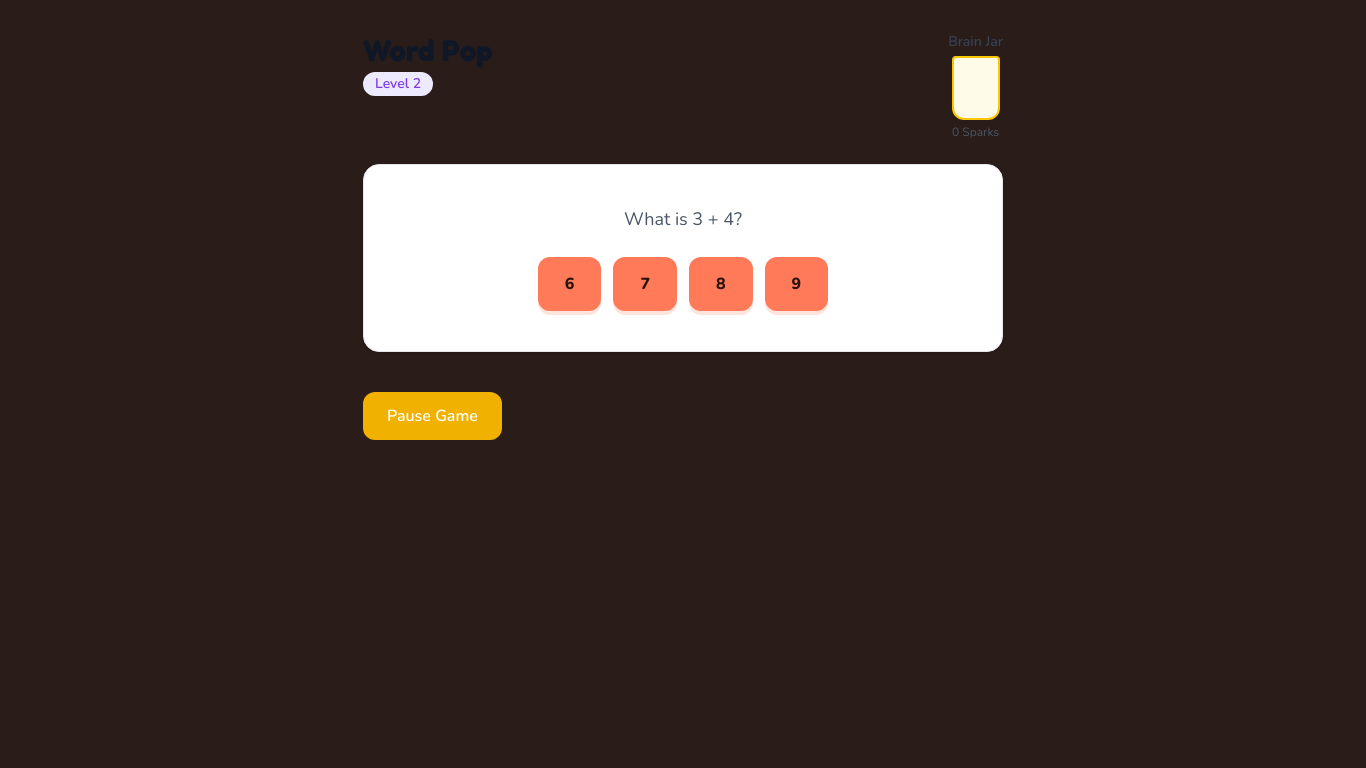
it: GameplayPage (active play screen) › clicking Resume on the PauseOverlay hides the overlay (AC3)
The image size is (1366, 768).
Click the button "Pause Game". click: click(432, 416)
box: [363, 392, 502, 440]
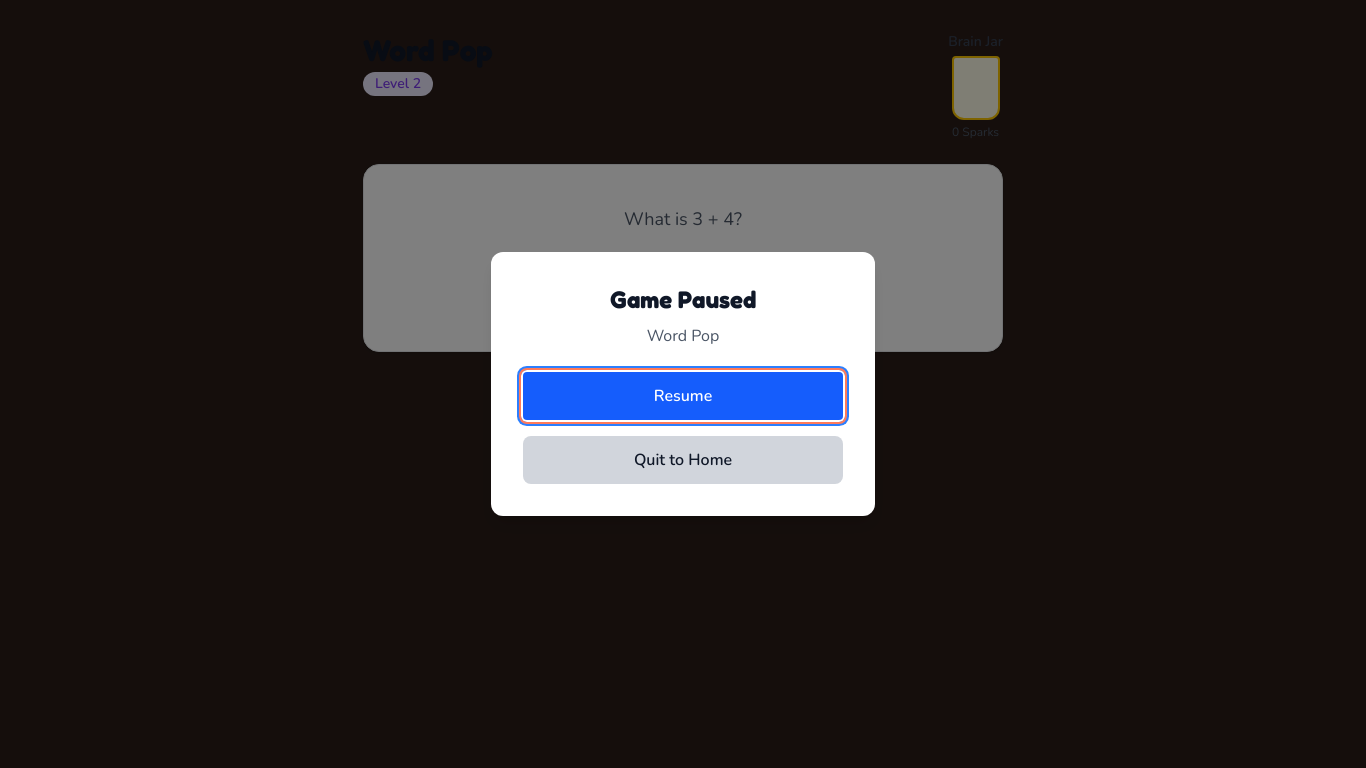
Now the heading "Game Paused" is shown, box [610, 285, 756, 314]
Click the button "Resume". click: click(683, 396)
box: [523, 372, 843, 420]
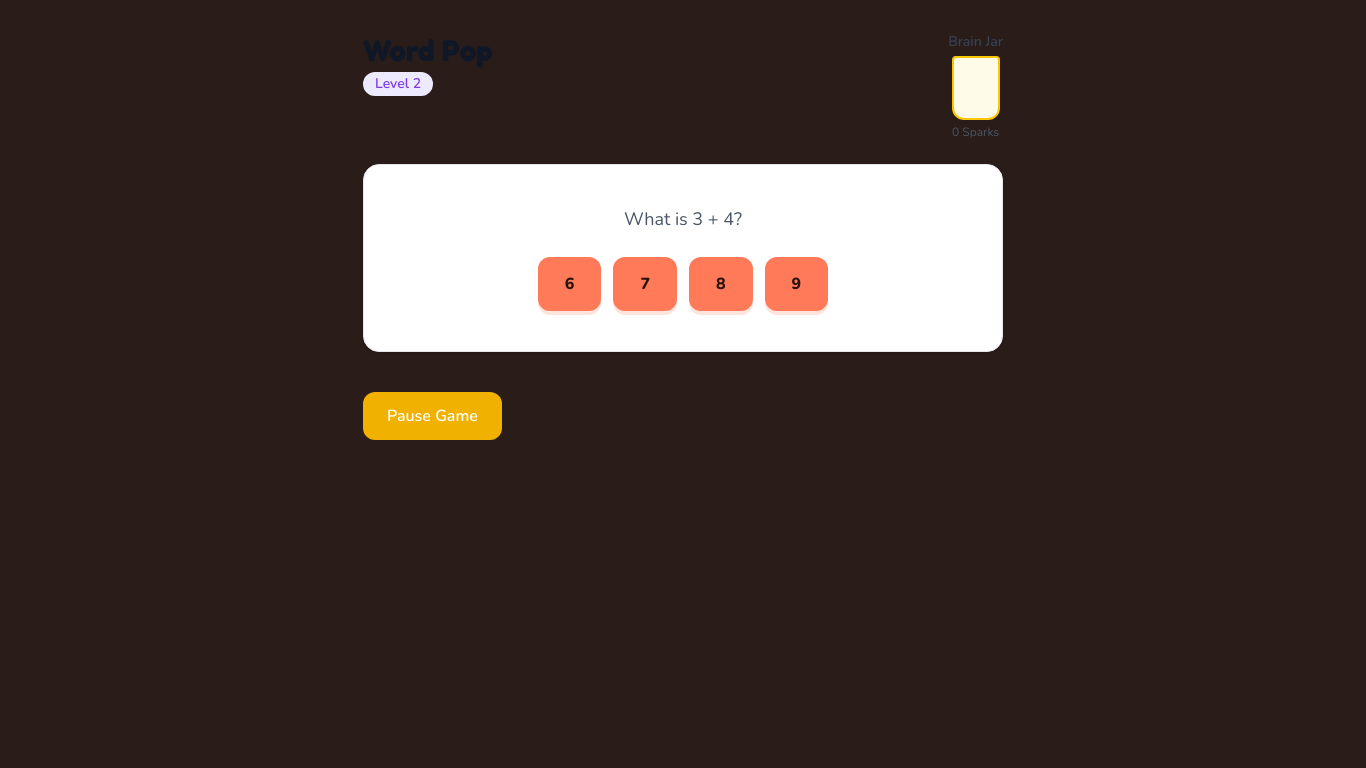
Now the heading "Game Paused" is gone
